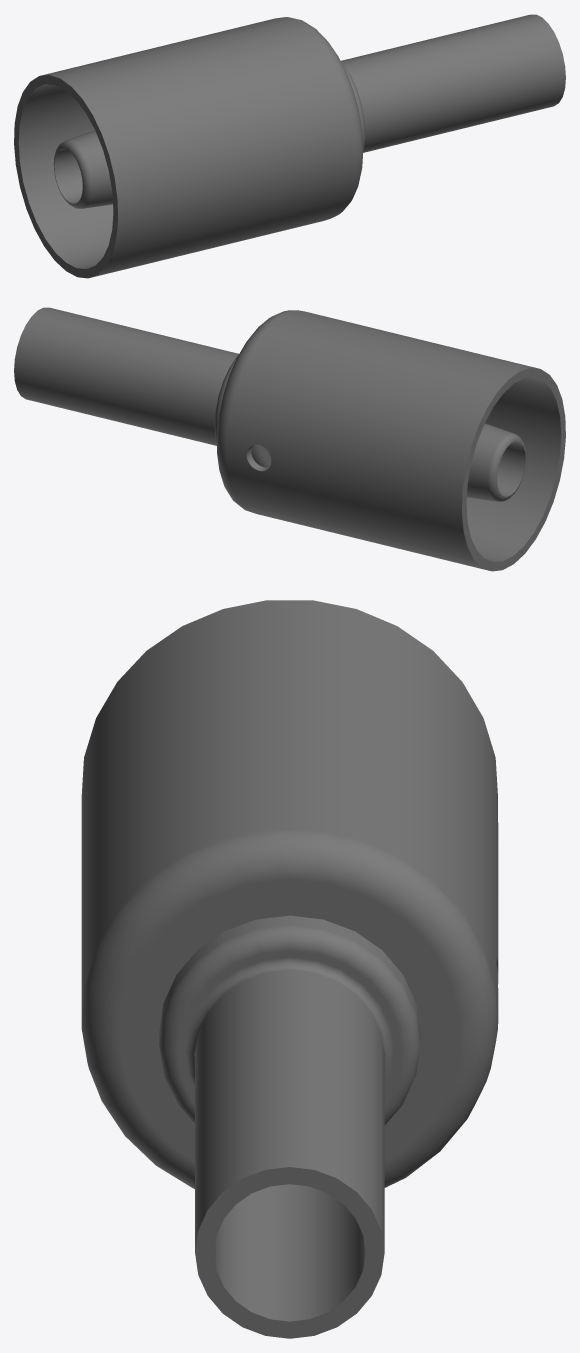
Rendered from TDNS06.obj.
3 renders of one model, top to bottom at view 1: azimuth 30°, elevation 25°; view 2: azimuth 150°, elevation 25°; view 3: azimuth 270°, elevation 25°, orthographic. The views are drawn at different scales.
Visible parts, largest first — view 1: Body2; view 2: Body2; view 3: Body2.
Part boxes in pixels (box(x1,y1,x2,y2)): Body2: box(14, 14, 565, 278); Body2: box(14, 307, 565, 571); Body2: box(81, 600, 498, 1338).
Size of the model in its own units: 5.8 by 2.19 by 2.2.
Materials: 1 (1 with a texture image).
